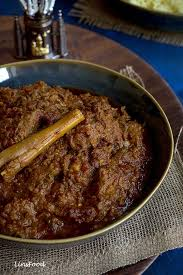rendang: (3, 58, 183, 247)
